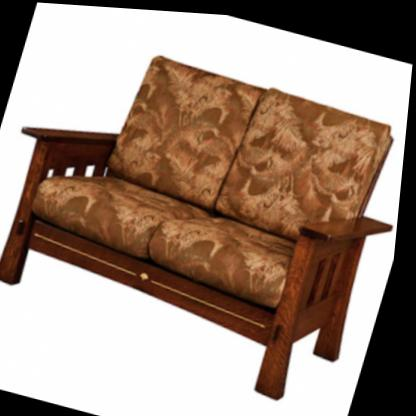Sofa: (0, 22, 414, 412)
